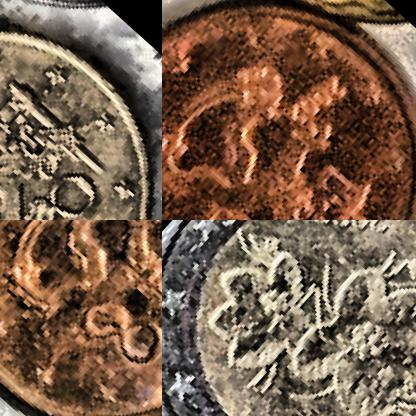coin: (162, 0, 415, 219), (162, 220, 415, 415), (0, 0, 161, 219), (0, 220, 161, 415)
